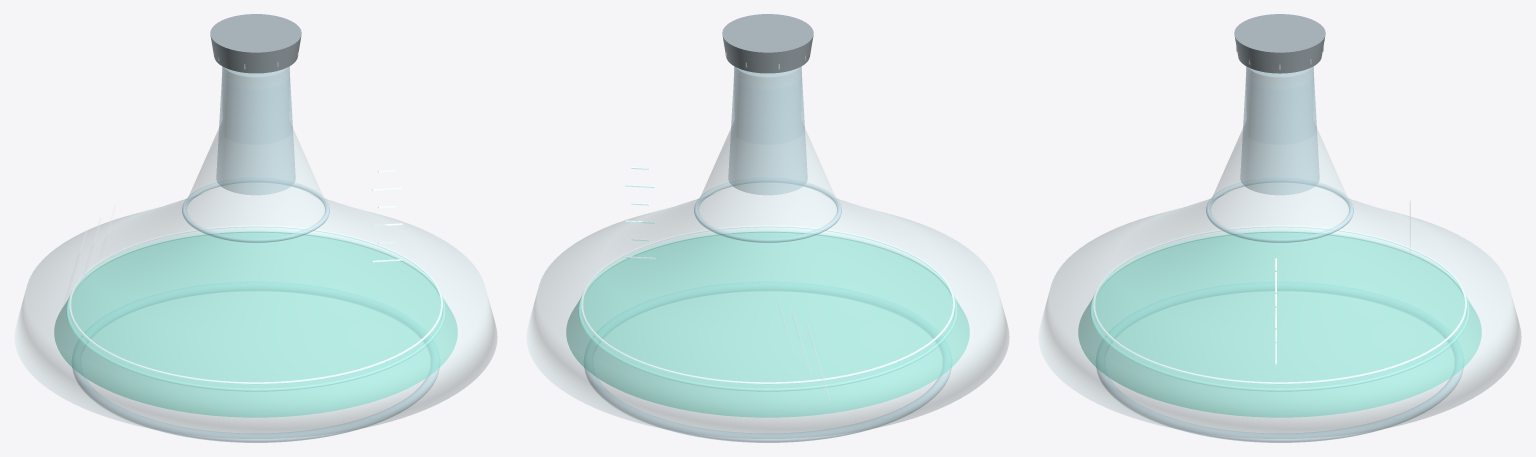
The model's file is fernbach-flask.glb.
3 views of the same model, side by side, from view 1: azimuth 30°, elevation 25°; view 2: azimuth 150°, elevation 25°; view 3: azimuth 270°, elevation 25° (orthographic).
Parts seen in each view (by area): view 1: broad_thick_fernbach_glass, green_media_fill_with_meniscus, clear_narrow_neck_wall, crimped_silver_foil_cap, thick_rounded_glass_base, elliptical_media_meniscus, bright_fill_line, neck_shoulder_glass_ring; view 2: broad_thick_fernbach_glass, green_media_fill_with_meniscus, clear_narrow_neck_wall, crimped_silver_foil_cap, thick_rounded_glass_base, elliptical_media_meniscus, bright_fill_line, neck_shoulder_glass_ring; view 3: broad_thick_fernbach_glass, green_media_fill_with_meniscus, clear_narrow_neck_wall, crimped_silver_foil_cap, thick_rounded_glass_base, elliptical_media_meniscus, bright_fill_line, neck_shoulder_glass_ring.
Part boxes in pixels (x1,y1,x2,y2): broad_thick_fernbach_glass: (14, 66, 497, 438); green_media_fill_with_meniscus: (54, 232, 457, 417); clear_narrow_neck_wall: (216, 67, 295, 194); crimped_silver_foil_cap: (210, 14, 301, 73); thick_rounded_glass_base: (72, 367, 439, 442); elliptical_media_meniscus: (66, 229, 445, 391); bright_fill_line: (69, 225, 442, 384); neck_shoulder_glass_ring: (182, 178, 329, 242); broad_thick_fernbach_glass: (526, 66, 1009, 438); green_media_fill_with_meniscus: (566, 232, 969, 417); clear_narrow_neck_wall: (728, 67, 807, 194); crimped_silver_foil_cap: (722, 14, 813, 73); thick_rounded_glass_base: (584, 367, 951, 442); elliptical_media_meniscus: (578, 229, 957, 391); bright_fill_line: (581, 225, 954, 384); neck_shoulder_glass_ring: (694, 178, 841, 242); broad_thick_fernbach_glass: (1038, 66, 1521, 438); green_media_fill_with_meniscus: (1078, 232, 1481, 417); clear_narrow_neck_wall: (1240, 67, 1319, 194); crimped_silver_foil_cap: (1234, 14, 1325, 73); thick_rounded_glass_base: (1096, 367, 1463, 442); elliptical_media_meniscus: (1090, 229, 1469, 391); bright_fill_line: (1093, 225, 1466, 384); neck_shoulder_glass_ring: (1206, 178, 1353, 242).
Bounding box in the file's own units: 15.2 × 11.84 × 15.2.
